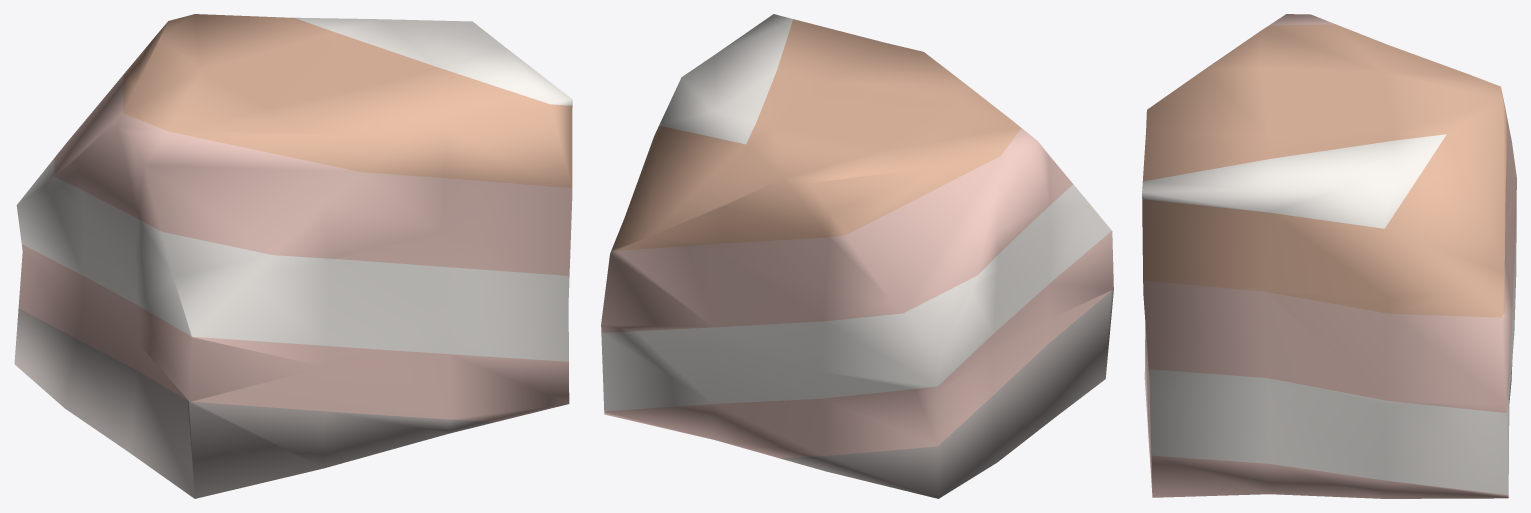
The model's file is RockSaltReal_Layered_Chunk.fbx.
The picture shows the model from 3 angles, left to right: view 1: azimuth 30°, elevation 25°; view 2: azimuth 150°, elevation 25°; view 3: azimuth 270°, elevation 25°; orthographic projection. The views are drawn at different scales.
Parts seen in each view (by area): view 1: RockSaltReal_Layered_Chunk; view 2: RockSaltReal_Layered_Chunk; view 3: RockSaltReal_Layered_Chunk.
Boxes of the visible parts, x1,y1,x2,y2 form: RockSaltReal_Layered_Chunk: (14,14,572,498); RockSaltReal_Layered_Chunk: (601,14,1113,498); RockSaltReal_Layered_Chunk: (1142,14,1516,498).
Bounding box in the file's own units: 0.2083 × 0.1623 × 0.1764.
